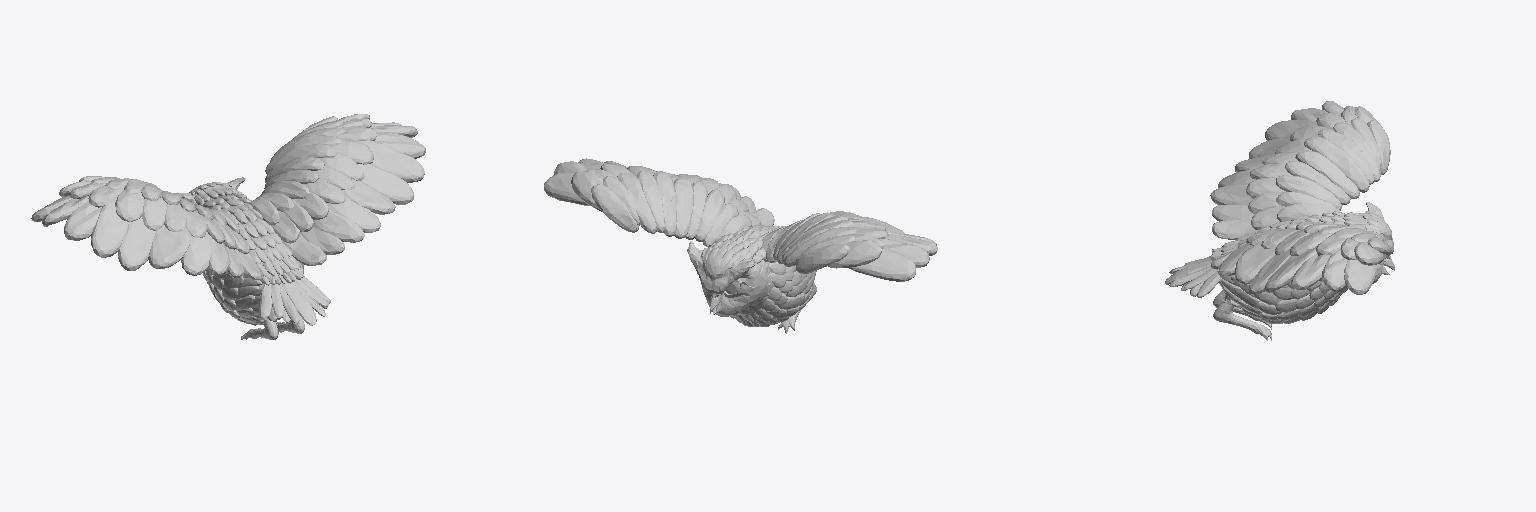
File: owl.obj
3 renders of one model, left to right at view 1: azimuth 30°, elevation 25°; view 2: azimuth 150°, elevation 25°; view 3: azimuth 270°, elevation 25°, orthographic.
Visible parts, largest first — view 1: Owl_high; view 2: Owl_high; view 3: Owl_high.
Boxes of the visible parts, box(x1,y1,x2,y2) form: Owl_high: box(31, 114, 425, 339); Owl_high: box(544, 158, 937, 333); Owl_high: box(1165, 101, 1394, 340).
Bounding box in the file's own units: 6.18 × 2.48 × 3.31.